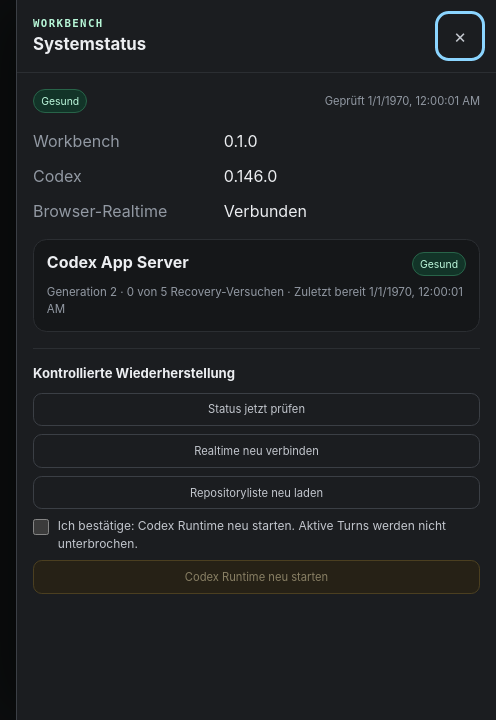
Test: shows typed status and requires explicit confirmation before one restart
expect the text "Codex App Server" is shown: met, box x1=47 y1=252 x2=189 y2=272
expect the button "Codex Runtime neu starten" is disabled: met, box x1=33 y1=560 x2=480 y2=594
Click the checkbox: (41, 527) x1=33 y1=519 x2=49 y2=535
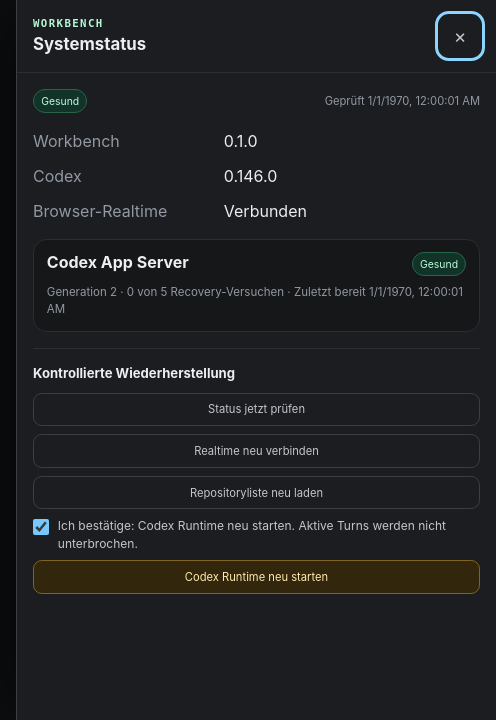
Click the button "Codex Runtime neu starten": (256, 577) x1=33 y1=560 x2=480 y2=594
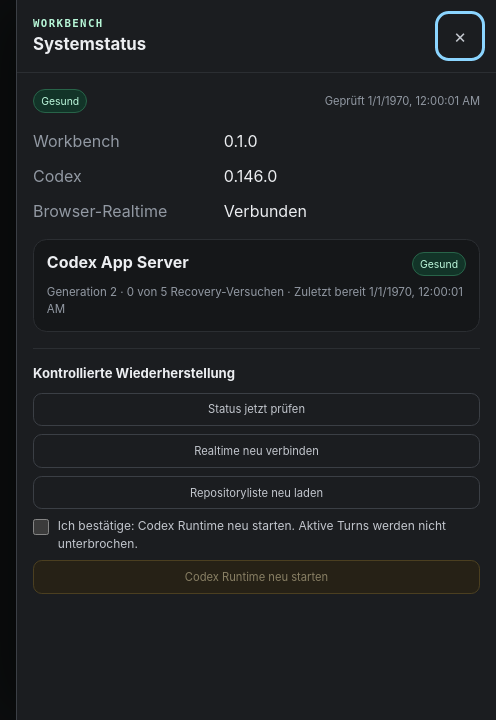
expect the button "Codex Runtime neu starten" is disabled: met, box x1=33 y1=560 x2=480 y2=594
